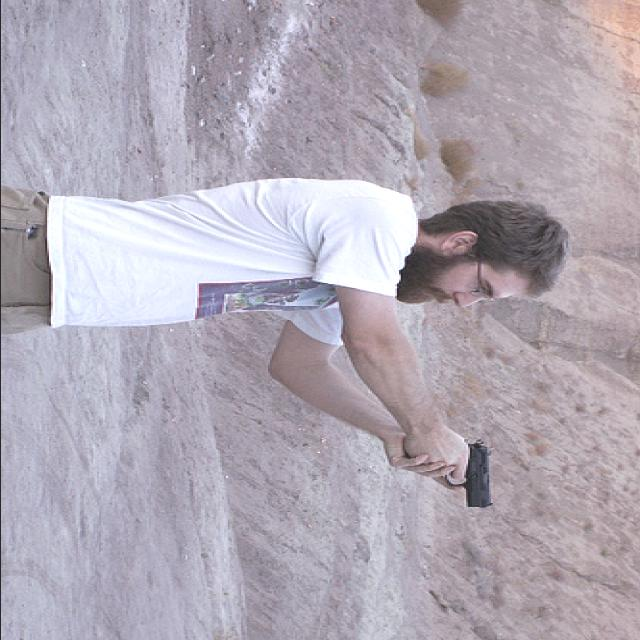handgun: (444, 435, 494, 507)
